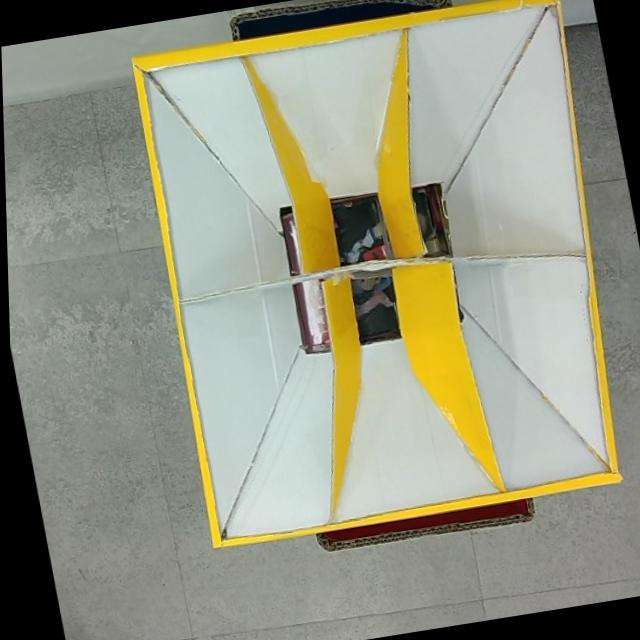box: (118, 0, 640, 572)
